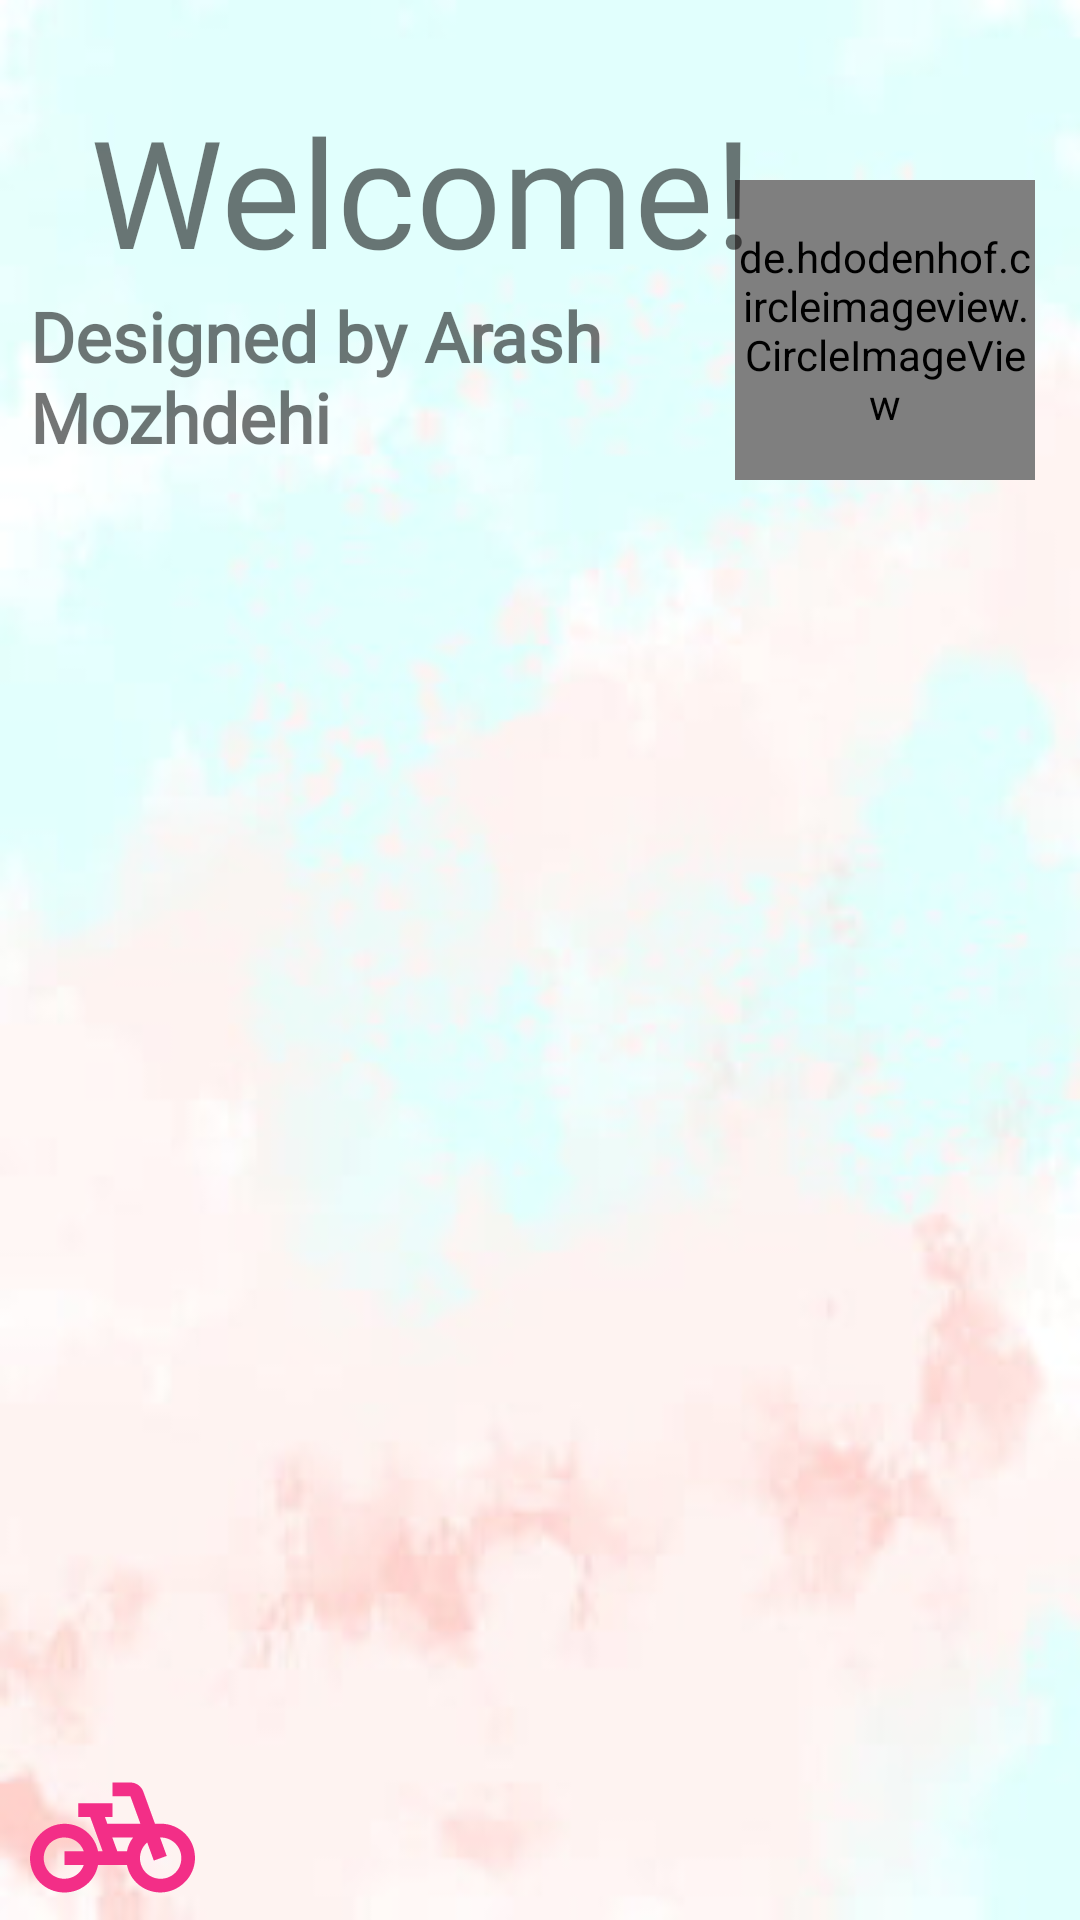

Icons on this 1080px x 1920px Android screen, each with its box as (x1, y1, x2, y2):
pedal bike: (30, 1775, 195, 1920)
